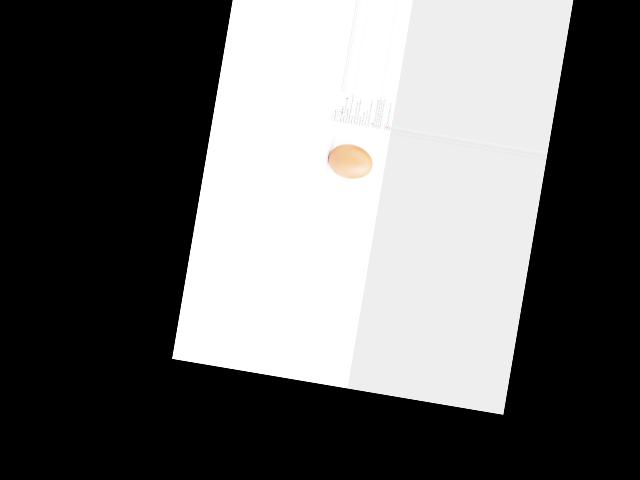egg: (325, 141, 374, 181)
